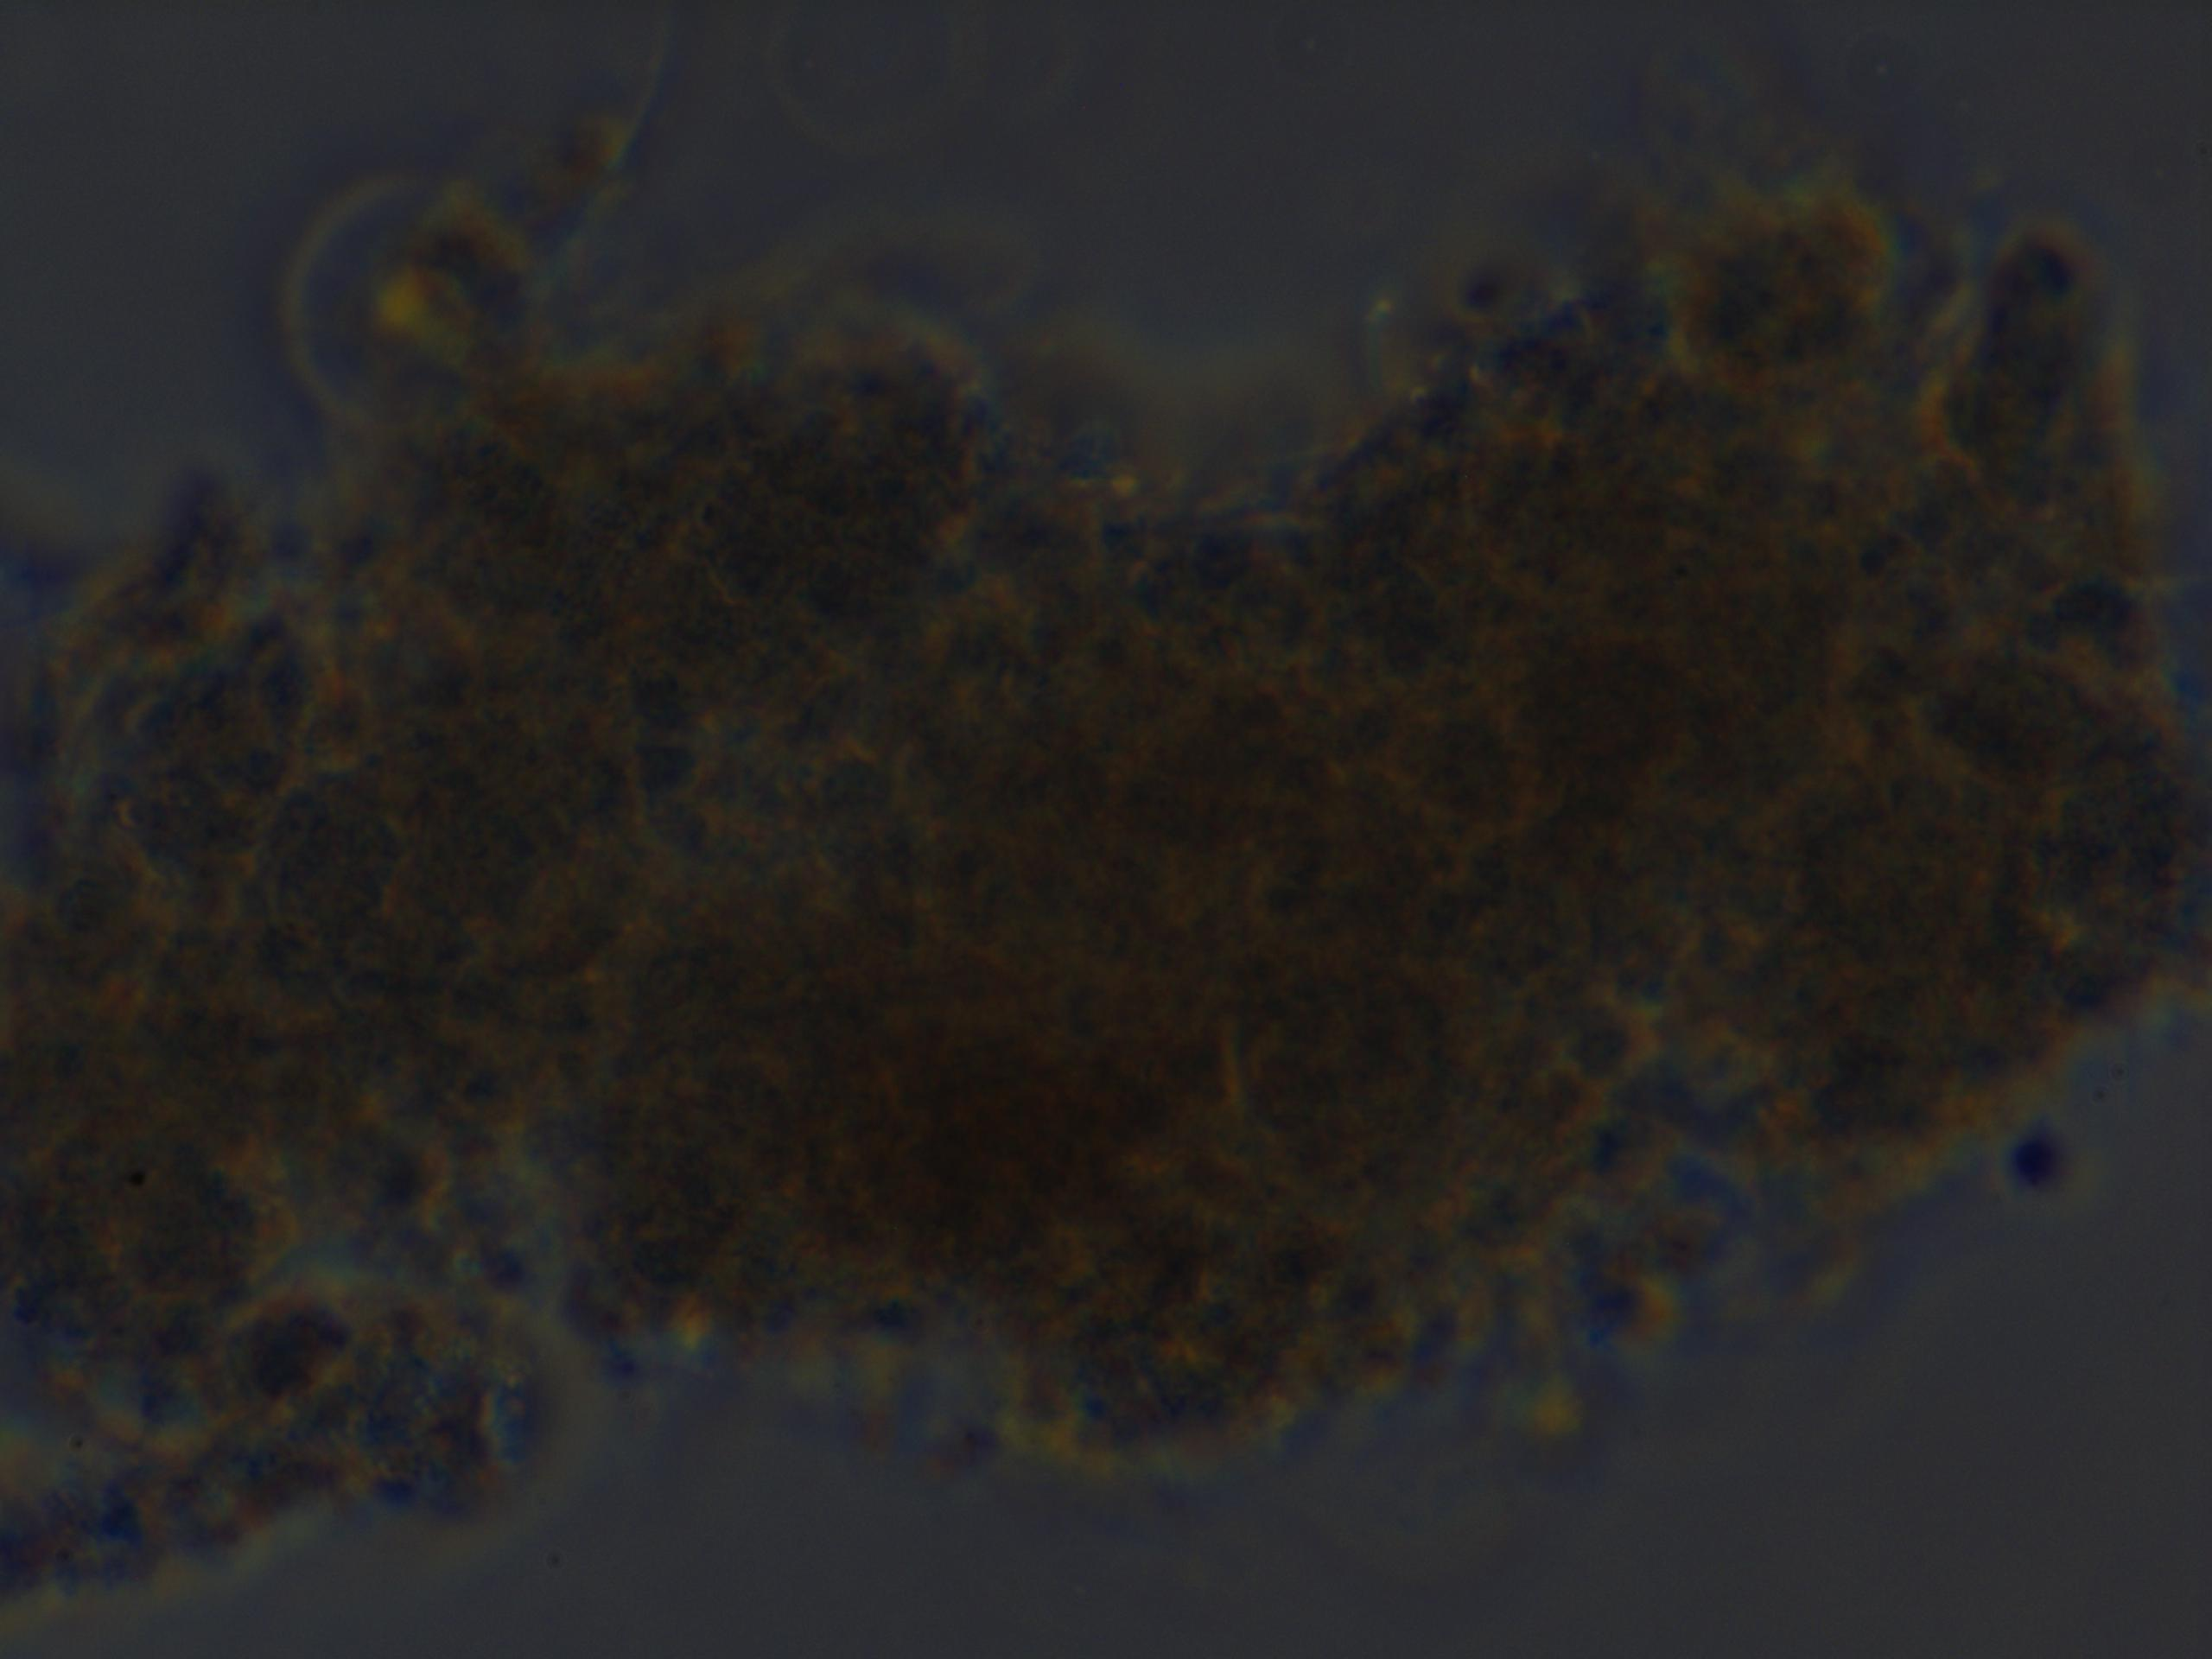spherical_floc: (0, 204, 2212, 1595)
